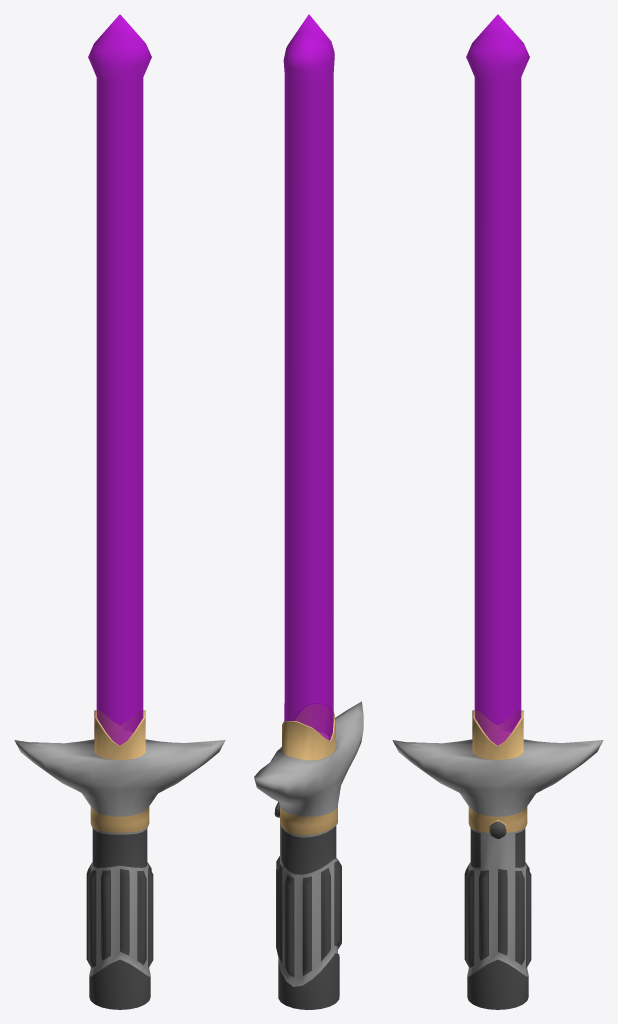
File: Laser Sword.fbx
3 renders of one model, left to right at view 1: azimuth 90°, elevation 25°; view 2: azimuth 150°, elevation 25°; view 3: azimuth 270°, elevation 25°, orthographic.
Visible parts, largest first — view 1: pCylinder1; view 2: pCylinder1; view 3: pCylinder1.
Boxes of the visible parts, bbox=[...] form: pCylinder1: bbox=[14, 14, 225, 1009]; pCylinder1: bbox=[254, 14, 363, 1009]; pCylinder1: bbox=[392, 14, 603, 1009].
Bounding box in the file's own units: 5.53 × 88.81 × 17.18.
